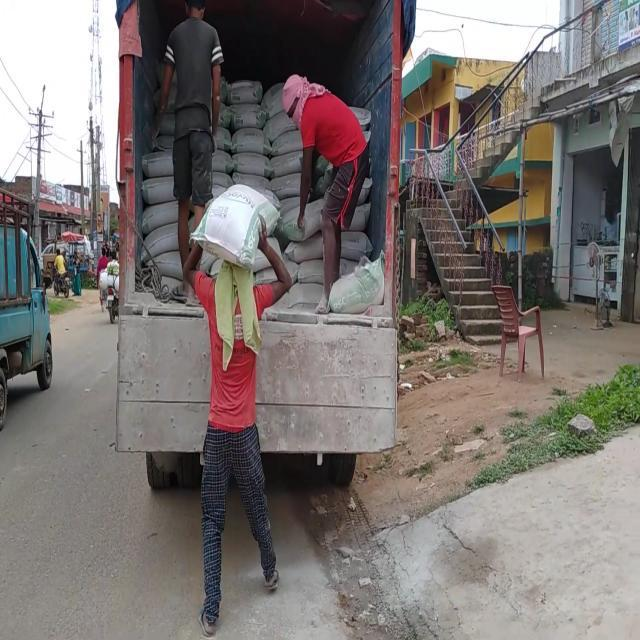gunny_bag: (191, 183, 279, 268), (329, 251, 385, 313), (277, 197, 325, 240), (141, 222, 178, 261), (141, 200, 178, 234), (263, 109, 297, 142), (231, 127, 271, 155), (141, 175, 176, 204), (232, 151, 271, 177), (230, 103, 266, 131), (226, 78, 262, 104), (270, 149, 303, 177), (142, 148, 172, 177), (271, 173, 301, 199)
